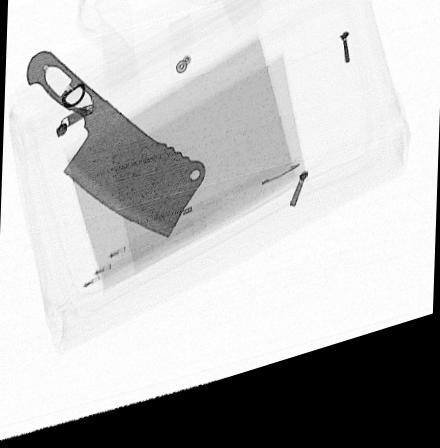Knife: (24, 51, 208, 251)
